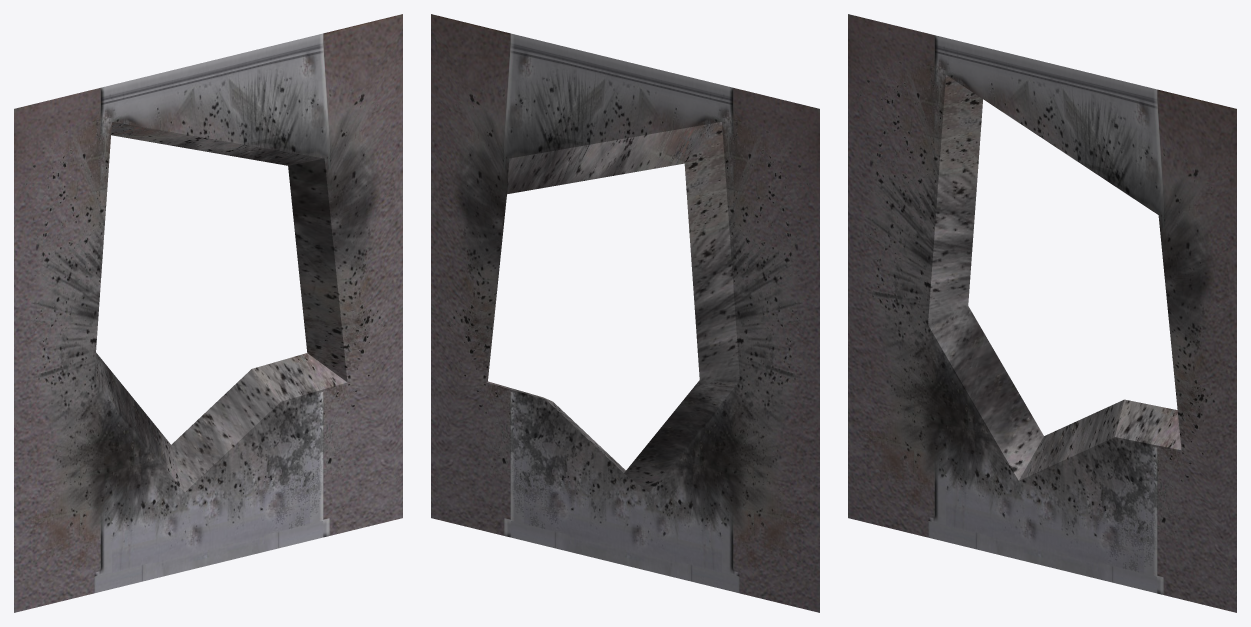
File: hole2.obj
The picture shows the model from 3 angles, left to right: view 1: azimuth 30°, elevation 25°; view 2: azimuth 150°, elevation 25°; view 3: azimuth 330°, elevation 25°; orthographic projection.
Parts seen in each view (by area): view 1: polySurface154; view 2: polySurface154; view 3: polySurface154.
Part boxes in pixels (x1,y1,x2,y2): polySurface154: (14, 14, 402, 612); polySurface154: (431, 14, 819, 612); polySurface154: (848, 14, 1236, 612).
Bounding box in the file's own units: 0.9666 × 1.2 × 0.0836.
Materials: 1 (1 with a texture image).
